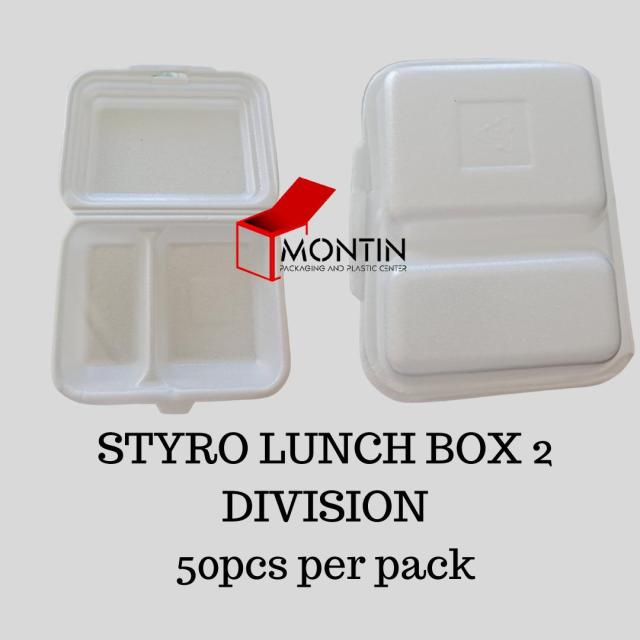styrofoam: (348, 57, 635, 402), (51, 62, 292, 413)
